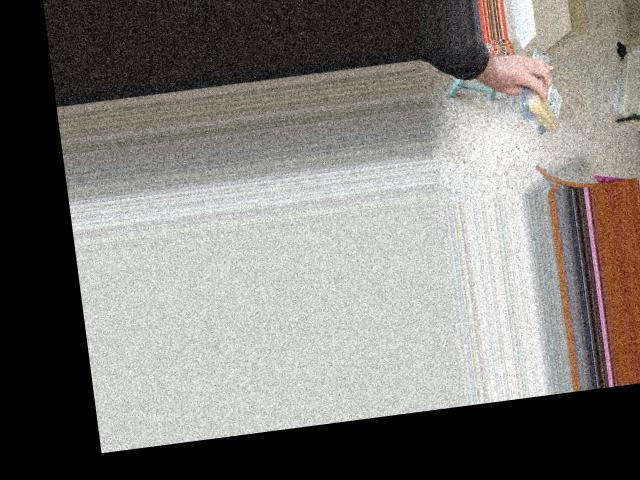cheese: (519, 58, 565, 135)
